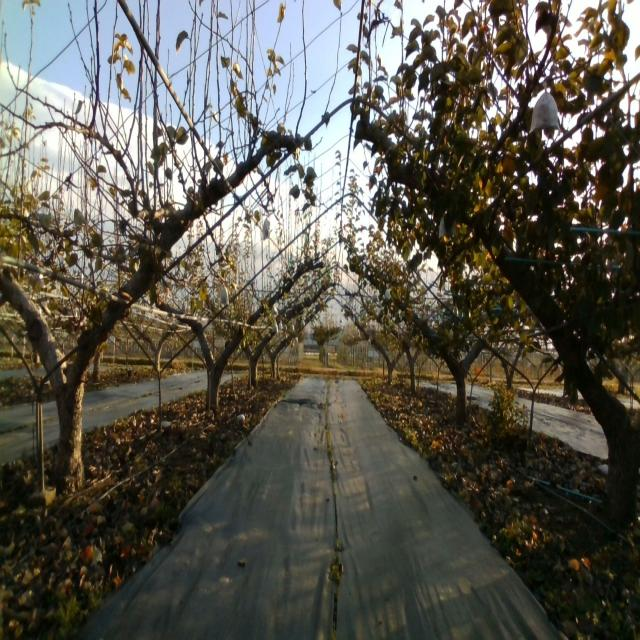pearbags: (528, 80, 560, 134), (218, 282, 230, 305)
